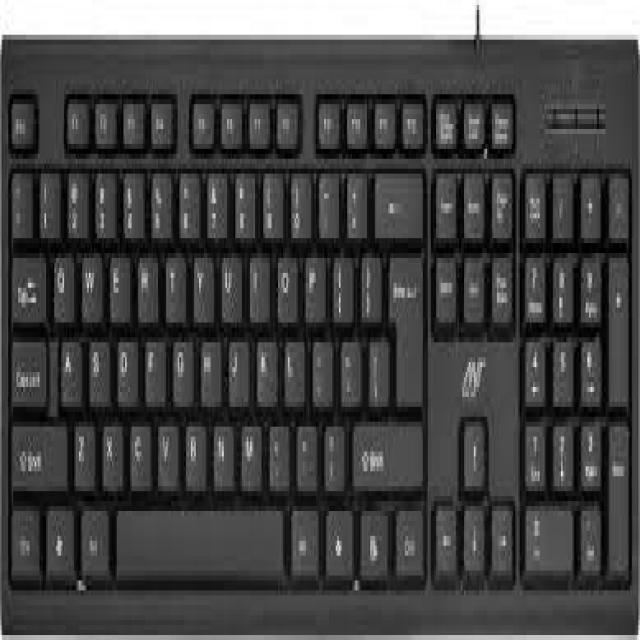others: (4, 34, 638, 640)
